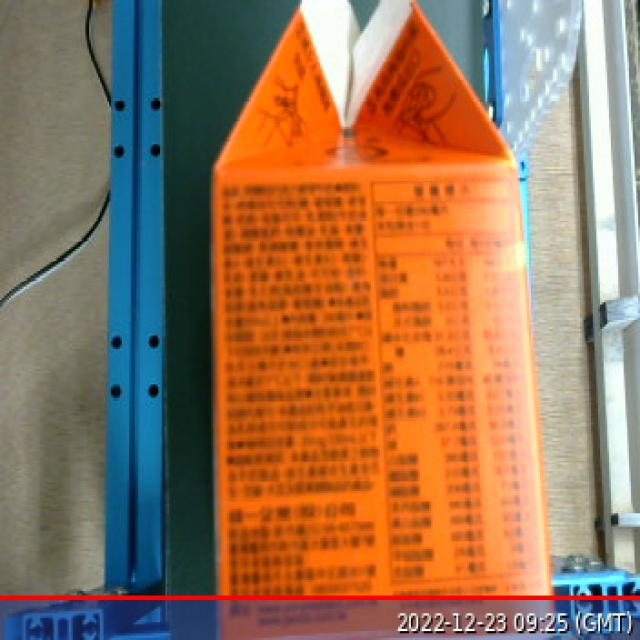non_white_jug: (198, 2, 578, 639)
